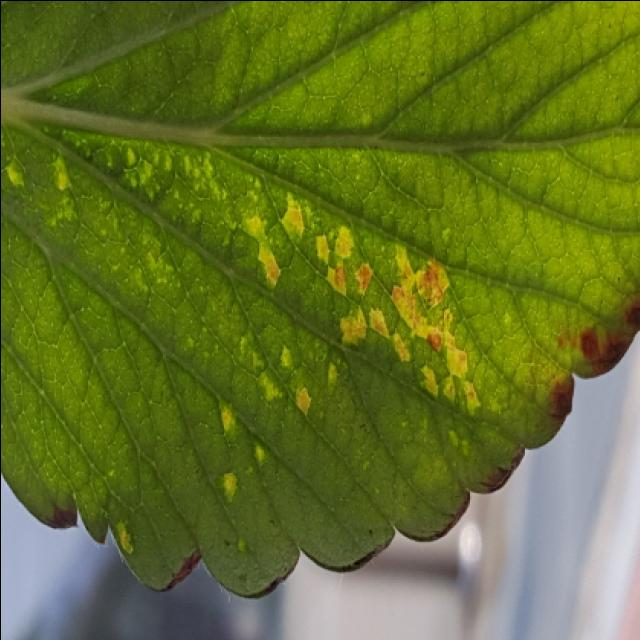Angular Leafspot: (0, 117, 518, 553)
